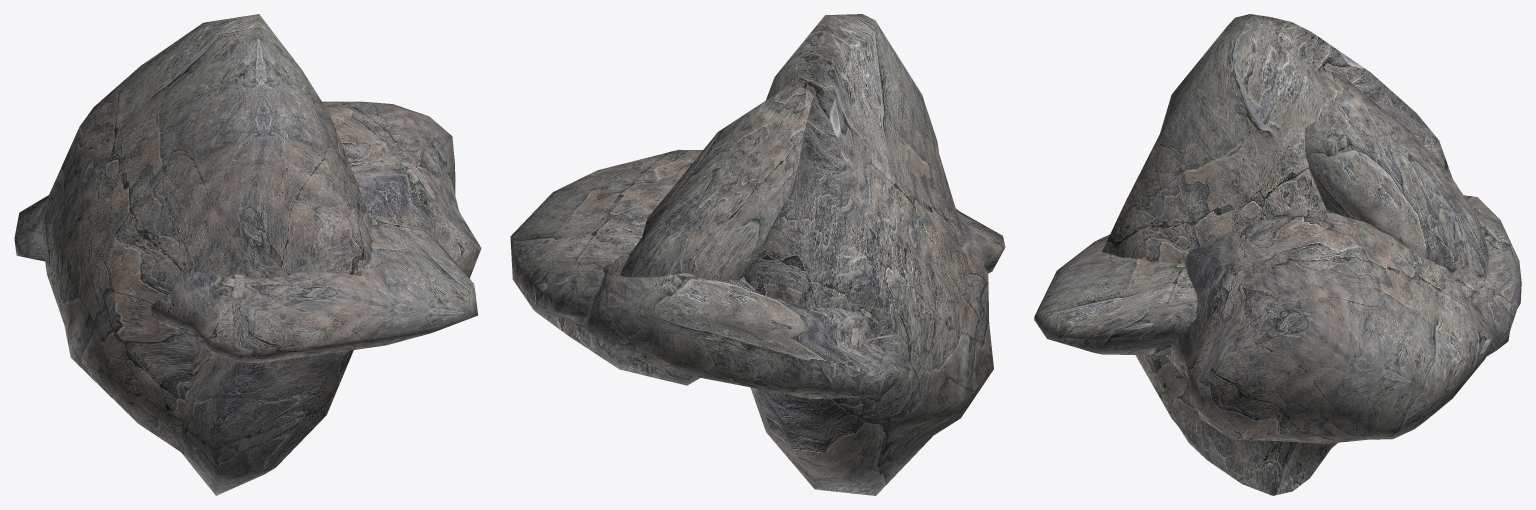
File: rock016.FBX
3 views of the same model, side by side, from view 1: azimuth 30°, elevation 25°; view 2: azimuth 150°, elevation 25°; view 3: azimuth 270°, elevation 25° (orthographic).
Visible parts, largest first — view 1: rock016; view 2: rock016; view 3: rock016.
Part boxes in pixels (x1,y1,x2,y2): rock016: [14, 14, 481, 495]; rock016: [510, 14, 1005, 495]; rock016: [1034, 14, 1521, 495].
Size of the model in its own units: 3892 by 4297 by 4002.
Materials: 1 (1 with a texture image).
